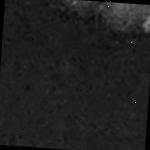colony: (49, 0, 150, 40)
